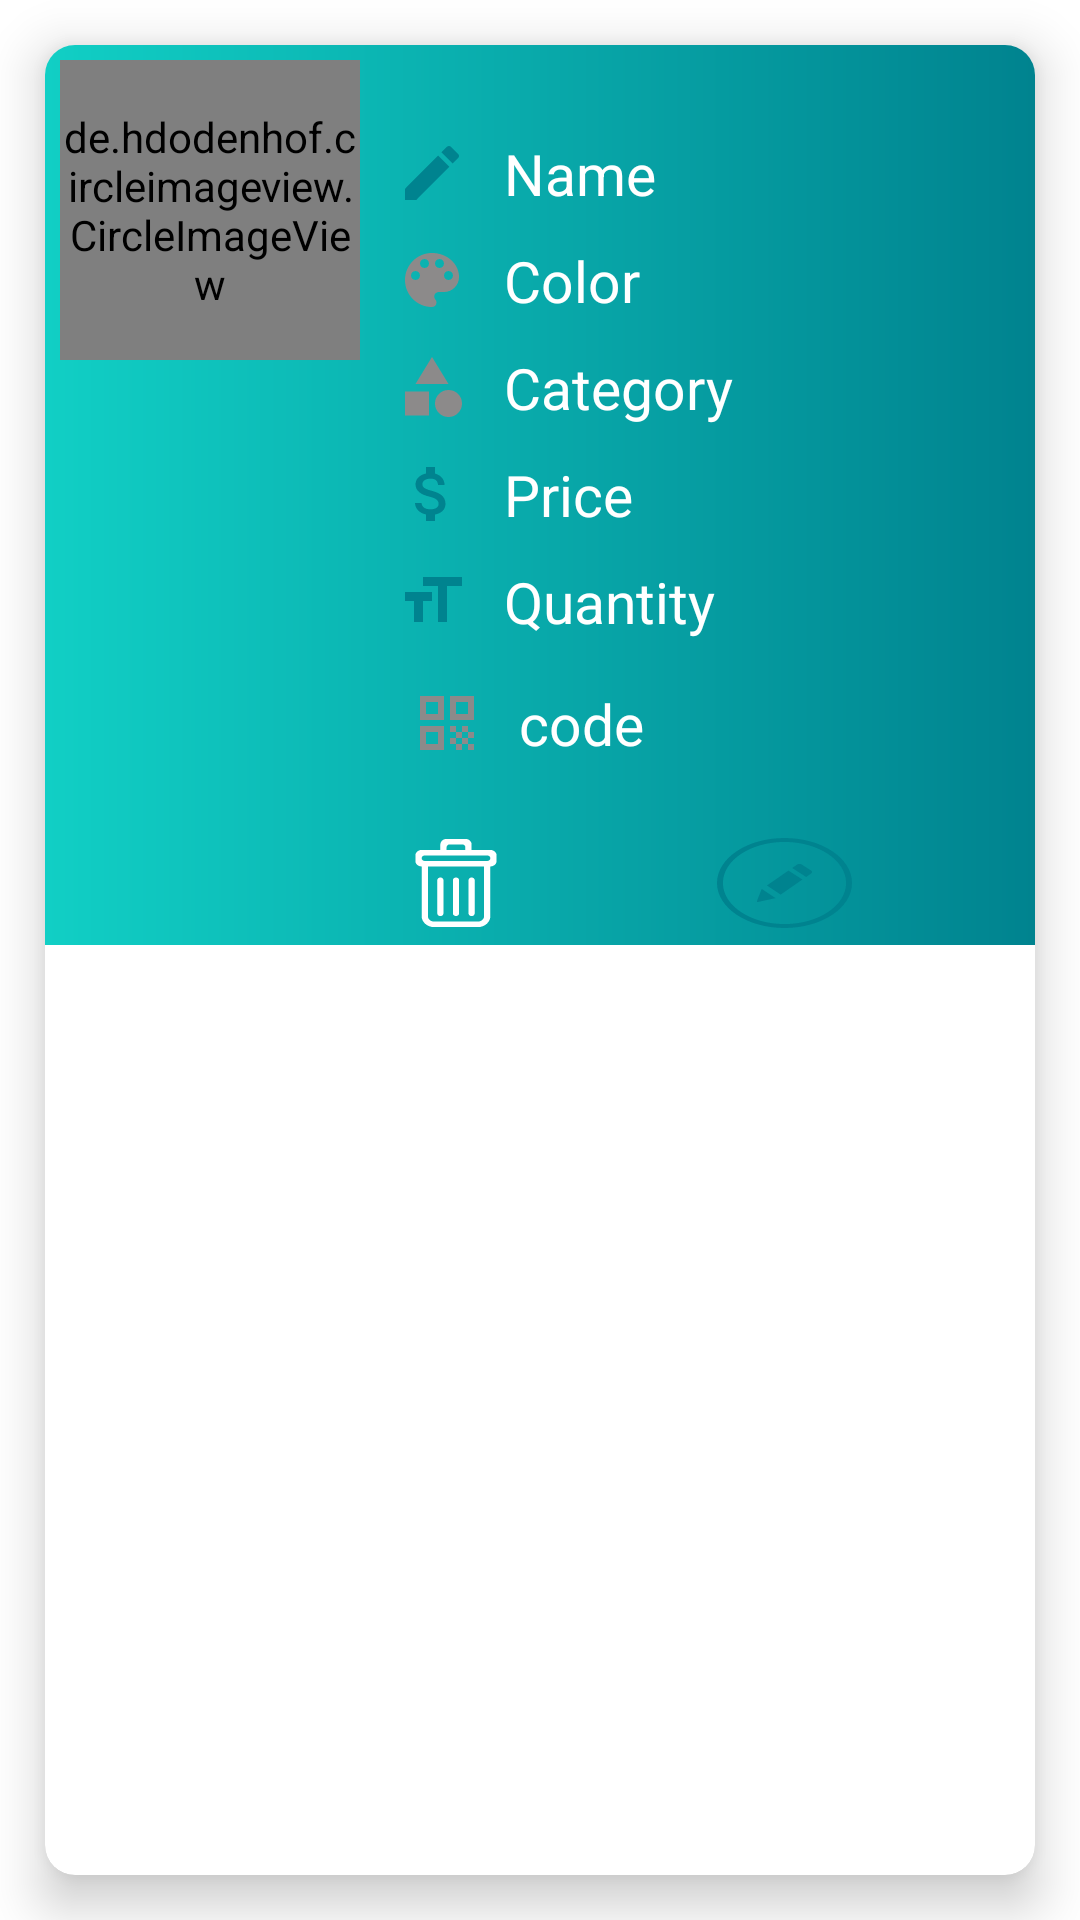

Screen size 1080 × 1920. Icon name, then its center in pixels as [x,y]:
deletesvg: [456,883]
